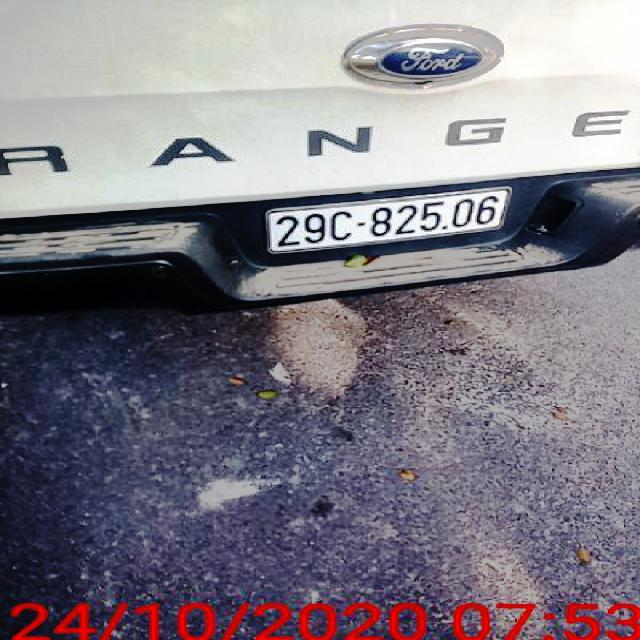license_plate: (269, 189, 516, 254)
